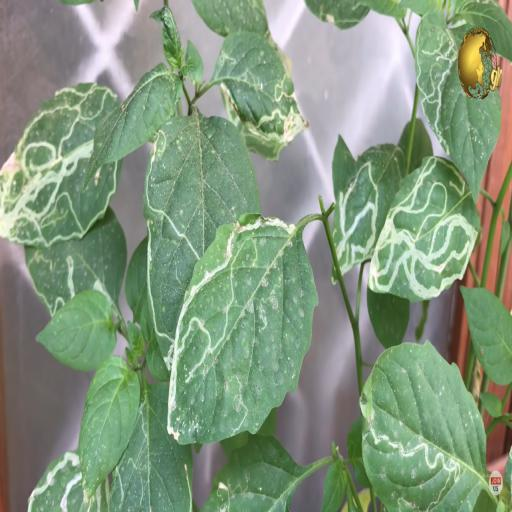Leaf_Miner: (168, 213, 320, 447), (143, 105, 260, 368), (358, 340, 486, 512), (0, 79, 125, 249), (366, 149, 480, 304), (215, 27, 313, 164), (24, 203, 128, 320), (107, 381, 193, 512), (331, 141, 408, 283), (194, 428, 298, 512), (413, 8, 458, 155), (25, 445, 109, 512)
